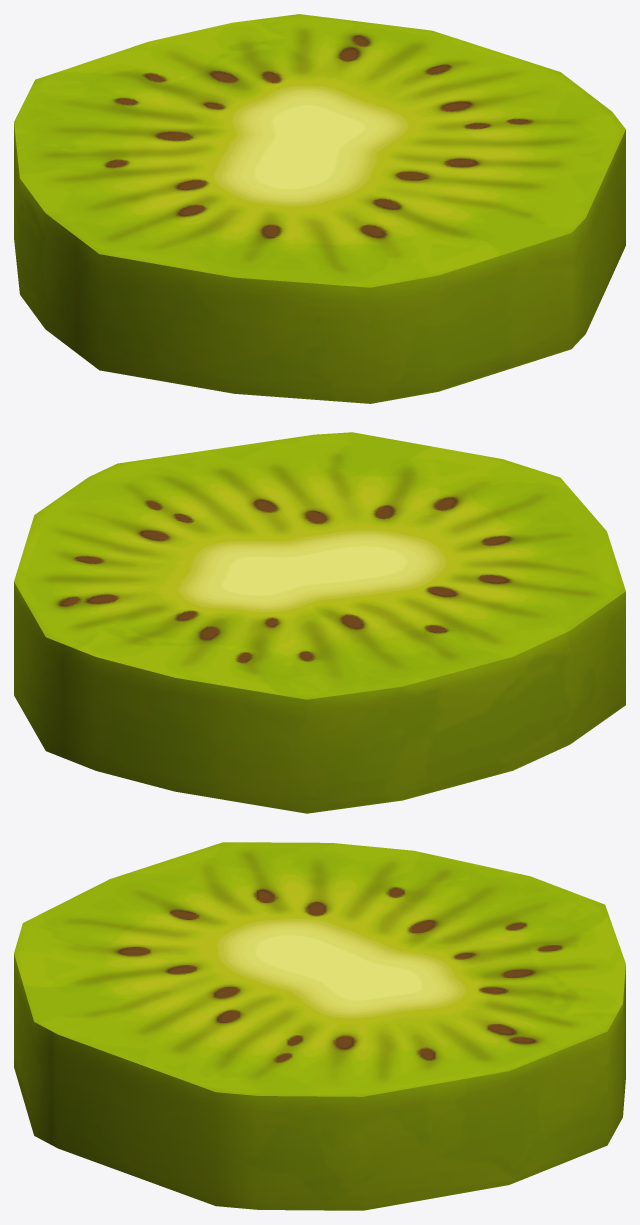
File: SM_KiwiSlice.fbx
3 renders of one model, top to bottom at view 1: azimuth 30°, elevation 25°; view 2: azimuth 150°, elevation 25°; view 3: azimuth 270°, elevation 25°, orthographic. The views are drawn at different scales.
Visible parts, largest first — view 1: SM_KiwiSlice; view 2: SM_KiwiSlice; view 3: SM_KiwiSlice.
Part boxes in pixels (x1=…): SM_KiwiSlice: x1=14, y1=14, x2=625, y2=403; SM_KiwiSlice: x1=14, y1=432, x2=625, y2=813; SM_KiwiSlice: x1=14, y1=842, x2=625, y2=1210.
Size of the model in its own units: 8.91 by 1.86 by 9.04.
